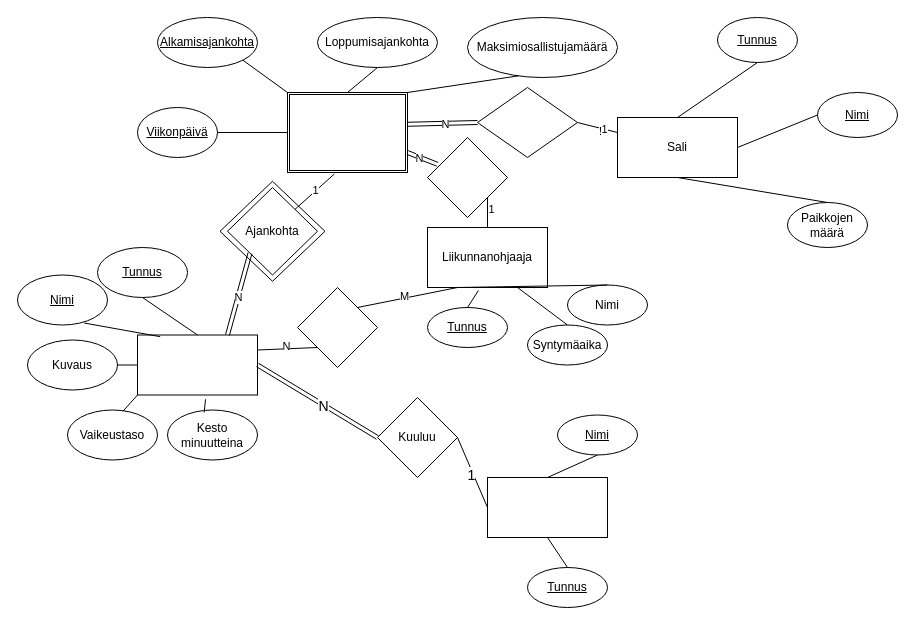
This 915x625 diagram has some shape labels left out. Here are the shapes that lost their labels. From the top down, the box of each, then its label:
(286, 92, 408, 172): Lukujärjestys
(476, 86, 578, 158): Järjestyspaikka
(426, 136, 508, 218): Ohjaamassa
(296, 286, 378, 368): Pätevä ohjaamaan
(136, 334, 258, 395): Ryhmäliikuntatunti
(486, 476, 608, 538): Kategoria
